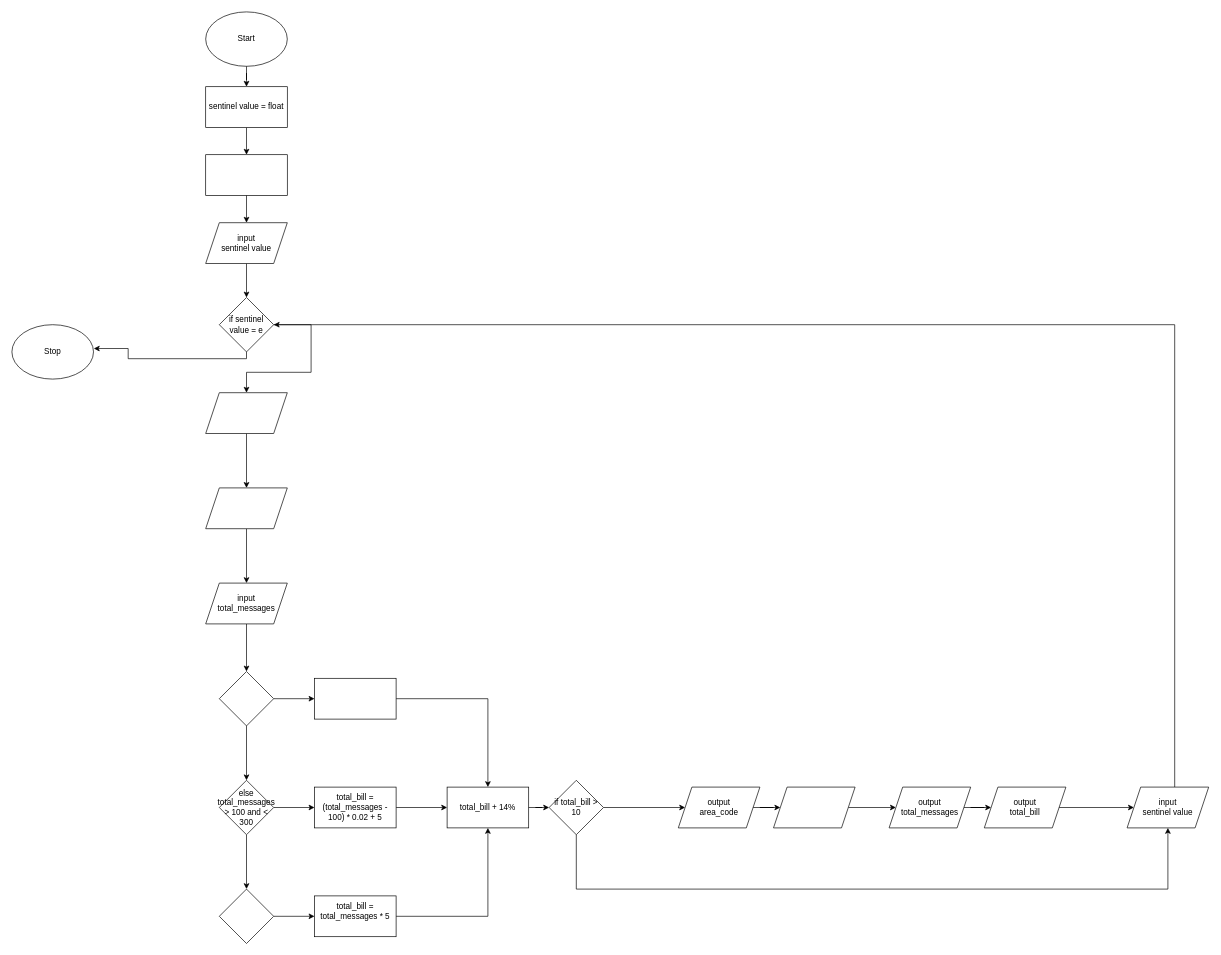
The diagram is 1221 pixels wide and 955 high, and some of its shapes have lost their labels. Here are the shapes that lost their labels. From the top down, the box of each, then its label:
(205, 154, 287, 196): total_bill = float
(205, 392, 287, 434): input area_code
(205, 487, 287, 529): input phone_number
(219, 671, 274, 726): if total_messages > 300
(314, 678, 396, 719): total_bill = (total_messages - 300) * 0.02 + 200 * 0.03 + 5
(773, 786, 855, 828): output phone_number
(219, 888, 274, 944): else total_messages < 100
